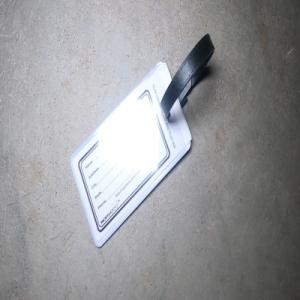LuggageTag: (68, 31, 216, 250)
